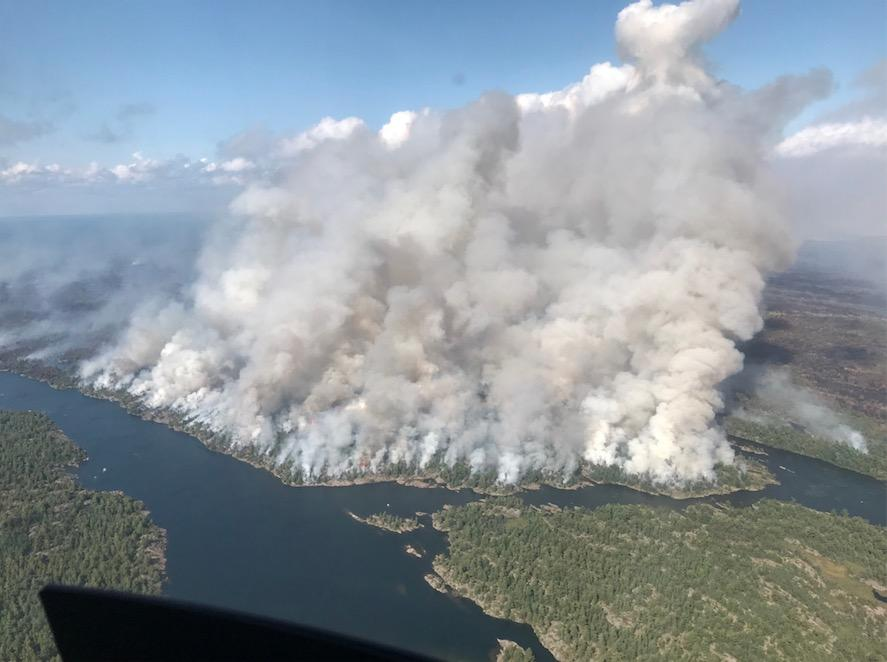smoke: (78, 91, 803, 489)
